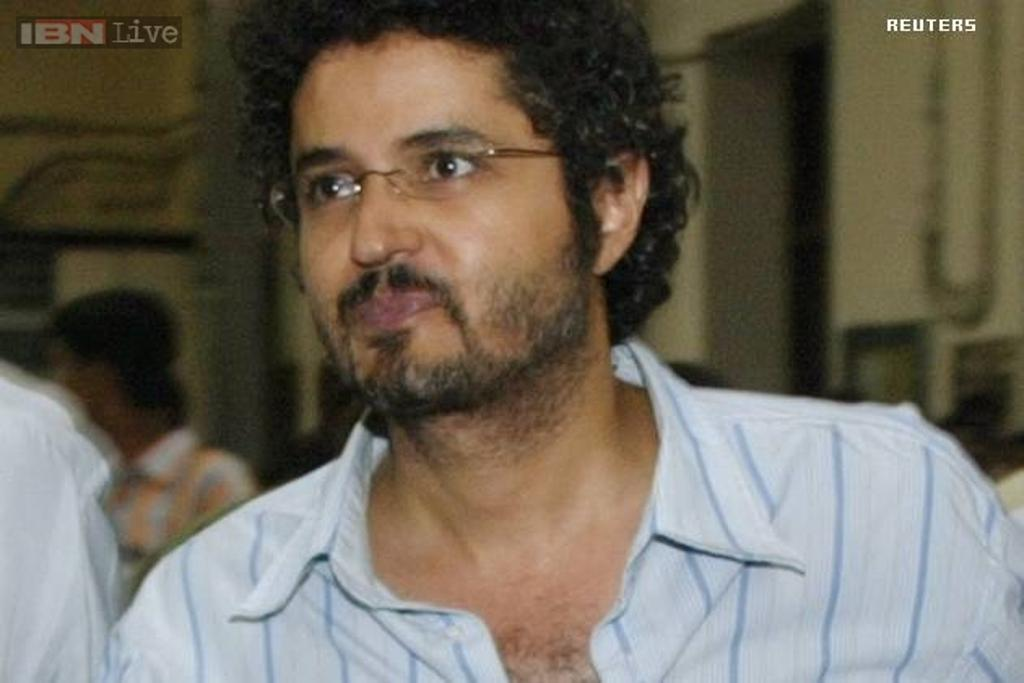face: (294, 42, 592, 398)
